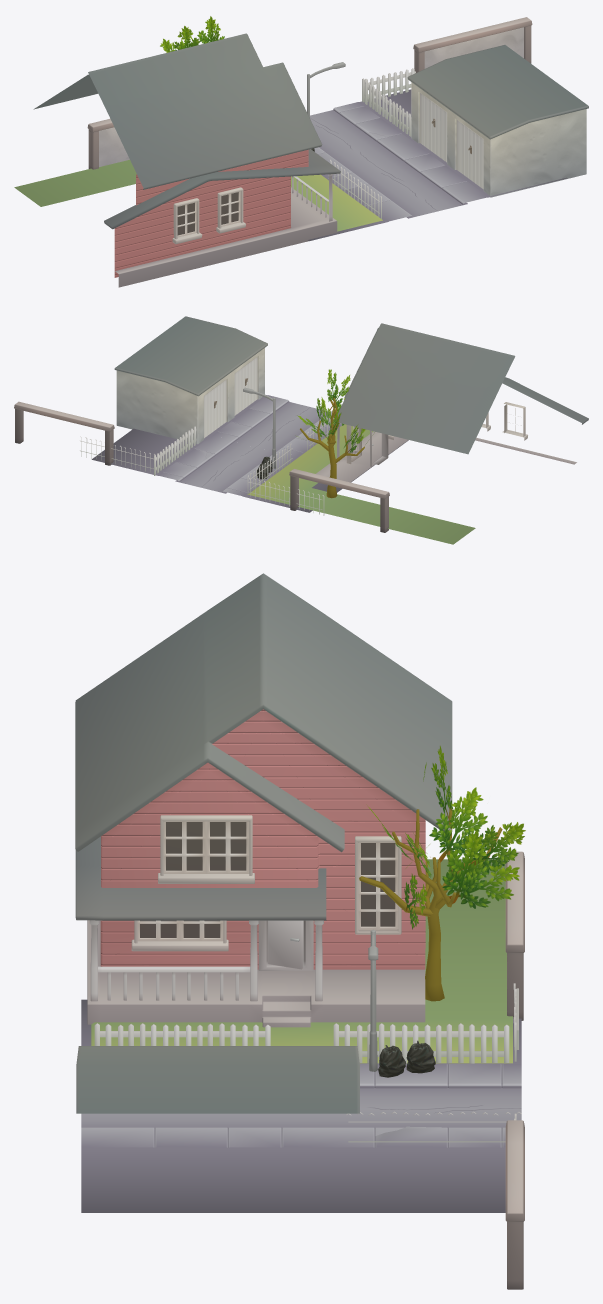
The model's file is SuburbsHouse02.prefab.glb.
3 renders of one model, top to bottom at view 1: azimuth 30°, elevation 25°; view 2: azimuth 150°, elevation 25°; view 3: azimuth 270°, elevation 25°, orthographic. The views are drawn at different scales.
Visible parts, largest first — view 1: House, Garage05, SuburbsHouse02, Road02, PlasteredWall01 (2), PlasteredWall01 (1), WoodFence02 (3), Tree01, WoodFence02 (7), WoodFence02 (1); view 2: House, Garage05, Road02, SuburbsHouse02, Tree01, PlasteredWall01 (1), PlasteredWall01 (2), WoodFence02 (3), WoodFence02, WoodFence02 (6), WoodFence02 (7), StreetLight; view 3: House, Road02, SuburbsHouse02, Garage05, Tree01, WoodFence02, PlasteredWall01 (2), PlasteredWall01 (1), WoodFence02 (1), StreetLight.
Part boxes in pixels (left/top/right/bottom): House: left=14, top=33, right=382, bottom=287; Garage05: left=407, top=45, right=588, bottom=197; SuburbsHouse02: left=307, top=149, right=566, bottom=241; Road02: left=310, top=89, right=427, bottom=169; PlasteredWall01 (2): left=413, top=17, right=532, bottom=72; PlasteredWall01 (1): left=87, top=119, right=129, bottom=169; WoodFence02 (3): left=362, top=78, right=411, bottom=136; Tree01: left=160, top=16, right=224, bottom=52; WoodFence02 (7): left=364, top=68, right=415, bottom=101; WoodFence02 (1): left=330, top=159, right=381, bottom=219; House: left=247, top=323, right=588, bottom=544; Garage05: left=114, top=316, right=267, bottom=444; Road02: left=92, top=428, right=363, bottom=512; SuburbsHouse02: left=209, top=394, right=408, bottom=472; Tree01: left=296, top=369, right=374, bottom=498; PlasteredWall01 (1): left=289, top=469, right=389, bottom=532; PlasteredWall01 (2): left=14, top=401, right=114, bottom=465; WoodFence02 (3): left=153, top=426, right=196, bottom=475; WoodFence02: left=247, top=443, right=292, bottom=494; WoodFence02 (6): left=248, top=478, right=324, bottom=515; WoodFence02 (7): left=80, top=436, right=155, bottom=472; StreetLight: left=243, top=387, right=275, bottom=468; House: left=75, top=573, right=512, bottom=1063; Road02: left=301, top=1018, right=521, bottom=1212; SuburbsHouse02: left=81, top=999, right=301, bottom=1212; Garage05: left=76, top=1046, right=359, bottom=1113; Tree01: left=359, top=745, right=525, bottom=1001; WoodFence02: left=333, top=1023, right=509, bottom=1063; PlasteredWall01 (2): left=505, top=1120, right=524, bottom=1289; PlasteredWall01 (1): left=505, top=851, right=524, bottom=1020; WoodFence02 (1): left=94, top=1023, right=270, bottom=1045; StreetLight: left=368, top=929, right=378, bottom=1071.
Size of the model in its own units: 43.74 by 13.22 by 18.49.
5 materials, 4 textured.
